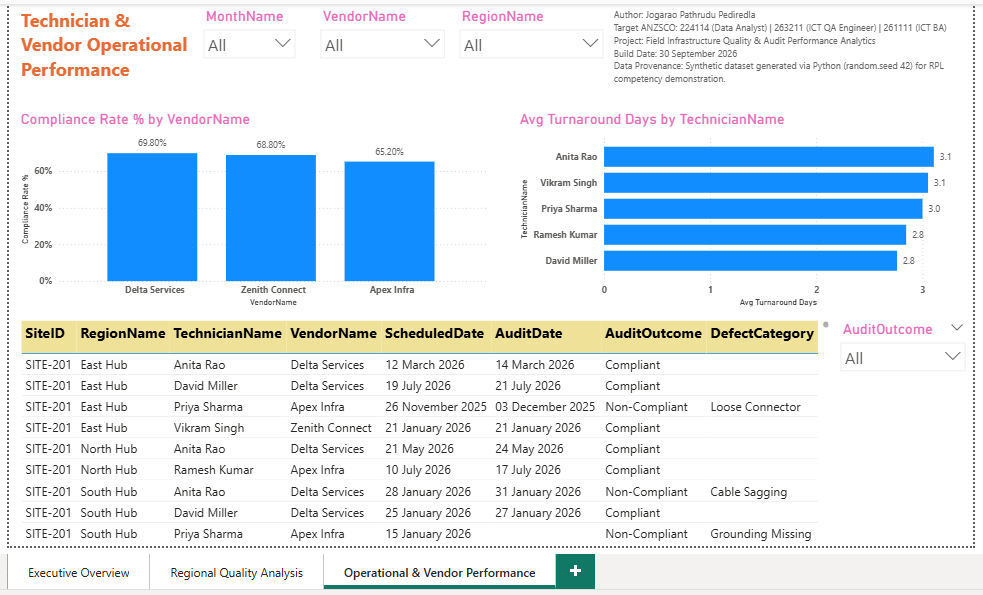

The page's visual inventory and layout, read from the dashboard file:
{"tool":"powerbi","page":{"name":"Operational & Vendor Performance","canvas":[1280,720],"ordinal":2},"visuals":[{"type":"textbox","box":[10.2,0,279.5,140.5],"z":0},{"type":"slicer","fields":{"Values":["dim_technicians.VendorName"]},"box":[289.8,0,279.5,165.4],"z":1000},{"type":"slicer","fields":{"Values":["fact_audits.AuditOutcome"]},"box":[569.3,0,279.5,140.5],"z":2000},{"type":"clusteredColumnChart","fields":{"Category":["dim_technicians.VendorName"],"Y":["_Measures.Compliance Rate %"]},"box":[10.2,140.5,629.3,266.3],"z":3000},{"type":"clusteredBarChart","fields":{"Category":["dim_technicians.TechnicianName"],"Y":["_Measures.Avg Turnaround Days"]},"box":[673.2,140.5,594.1,266.3],"z":4000},{"type":"tableEx","fields":{"Values":["fact_audits.SiteID","dim_regions.RegionName","dim_technicians.TechnicianName","dim_technicians.VendorName","fact_audits.ScheduledDate","fact_audits.AuditDate","fact_audits.AuditOutcome","fact_audits.DefectCategory"]},"box":[10.2,415.6,1270.2,304.4],"z":5000},{"type":"slicer","fields":{"Values":["dim_regions.RegionName"]},"box":[526.8,0,301.5,140.5],"z":5001},{"type":"slicer","fields":{"Values":["Dim_Date.MonthName"]},"box":[248.8,0,278,140.5],"z":5002},{"type":"textbox","box":[826.8,0,434.6,125.9],"z":5003}]}

Visuals, with their boxes on the page's 1280x720 design canvas (x1, y1, x2, y2). These are canvas units, not pixel positions in the 983x595 screenshot, which may show the page scaled, cropped or inside an application window:
textbox: locate(10, 0, 290, 140)
slicer - dim_technicians.VendorName: locate(290, 0, 569, 165)
slicer - fact_audits.AuditOutcome: locate(569, 0, 849, 140)
clusteredColumnChart - dim_technicians.VendorName x _Measures.Compliance Rate %: locate(10, 140, 640, 407)
clusteredBarChart - dim_technicians.TechnicianName x _Measures.Avg Turnaround Days: locate(673, 140, 1267, 407)
tableEx - fact_audits.SiteID x dim_regions.RegionName: locate(10, 416, 1280, 720)
slicer - dim_regions.RegionName: locate(527, 0, 828, 140)
slicer - Dim_Date.MonthName: locate(249, 0, 527, 140)
textbox: locate(827, 0, 1261, 126)
